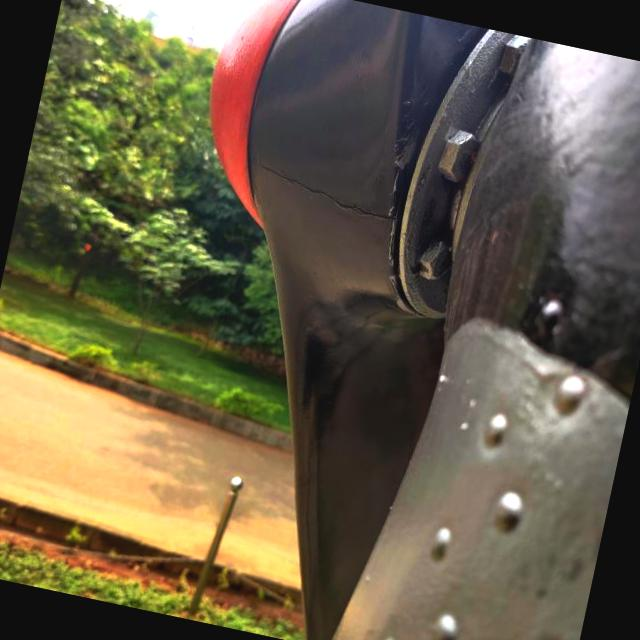crack: (238, 144, 404, 241)
